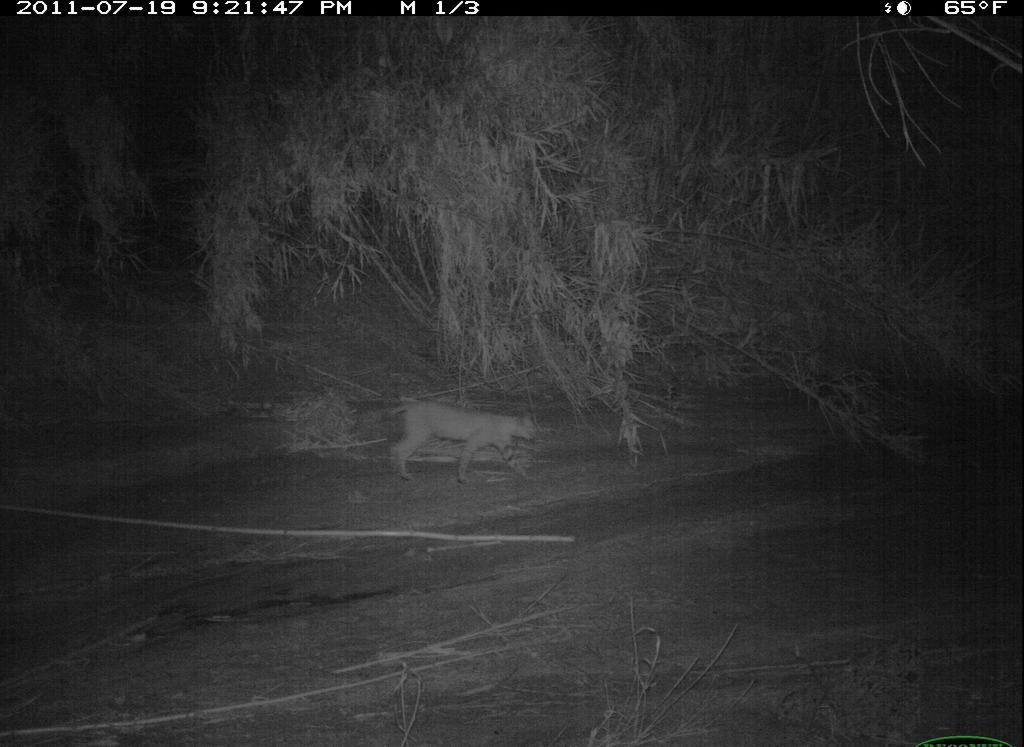bobcat: (378, 392, 543, 491)
